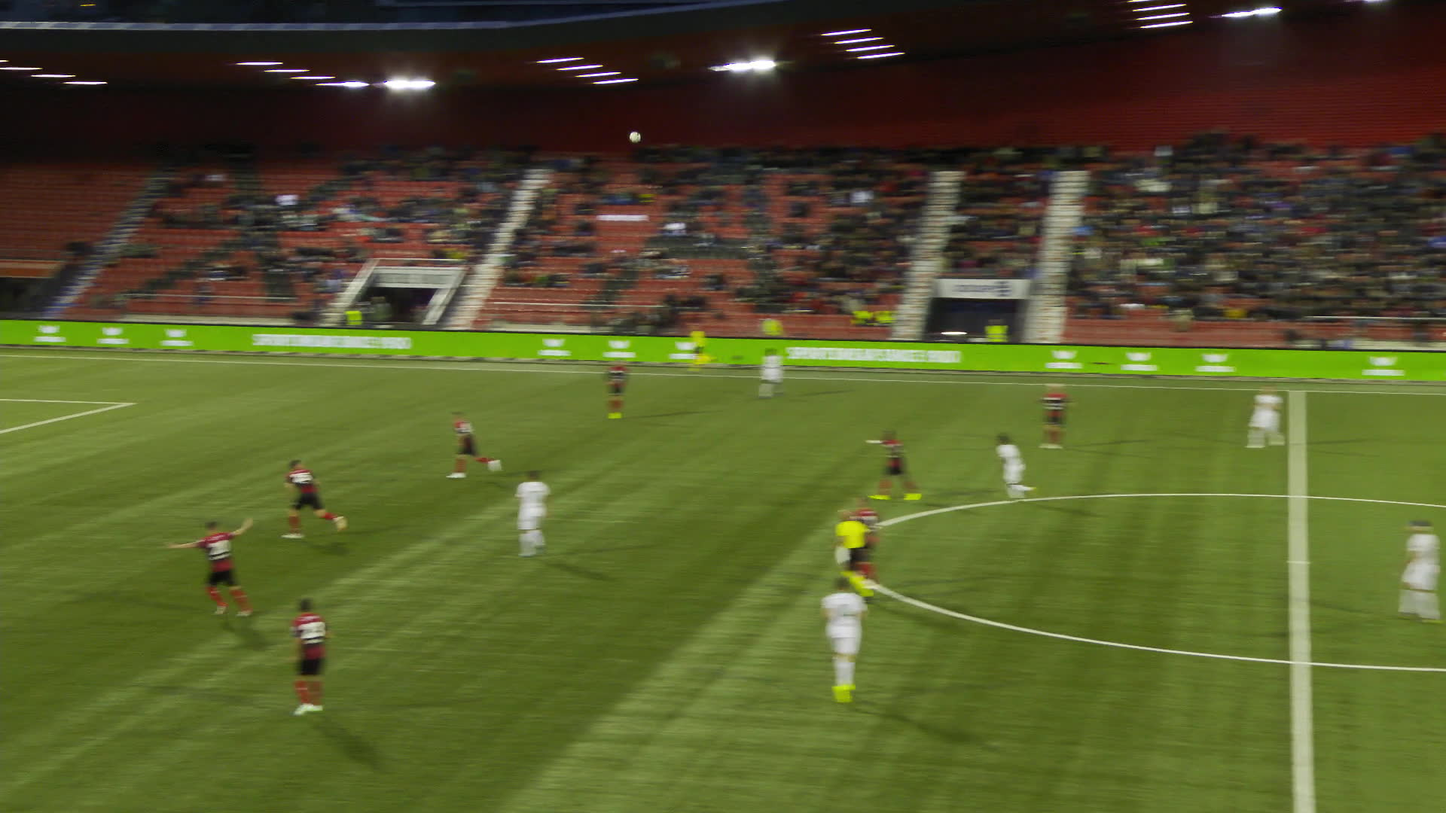ball: (629, 131, 639, 141)
player: (164, 515, 252, 617), (809, 577, 856, 702), (1393, 518, 1445, 621), (282, 458, 347, 537), (272, 598, 313, 716), (856, 428, 913, 500), (507, 470, 544, 556), (436, 410, 481, 480), (847, 496, 882, 578), (982, 432, 1025, 498), (1245, 383, 1285, 448), (1036, 382, 1072, 448), (580, 360, 606, 419), (757, 346, 783, 399)
referee: (813, 508, 855, 604), (690, 328, 707, 369)
